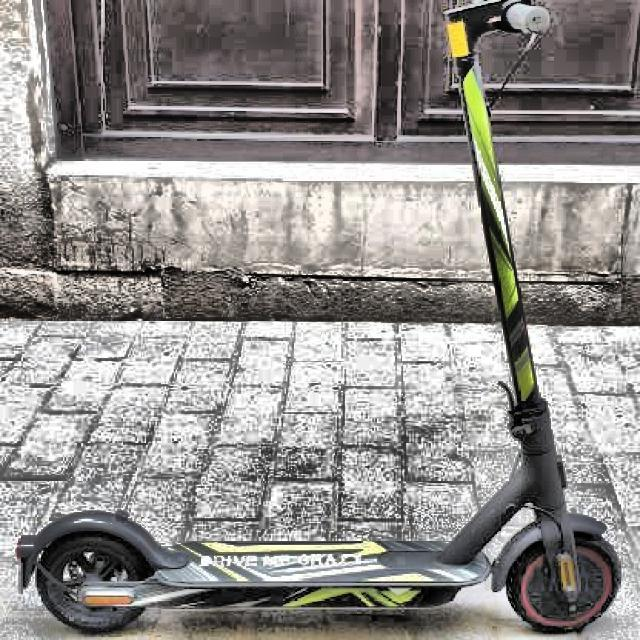bike: (18, 2, 626, 634), (0, 199, 623, 635), (4, 382, 622, 635)
